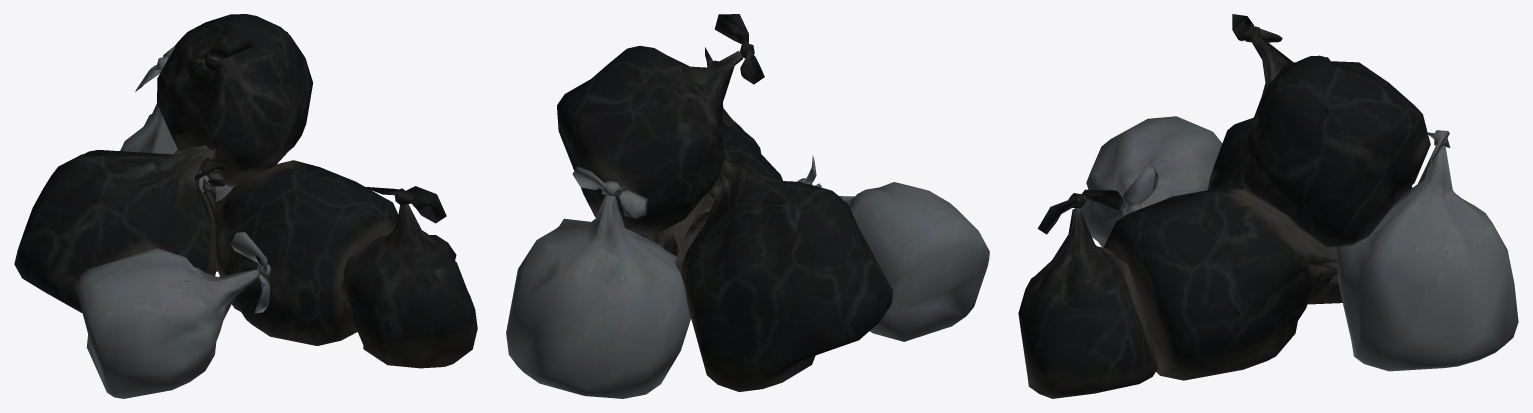
File: trash-bag-pile.glb
3 views of the same model, side by side, from view 1: azimuth 30°, elevation 25°; view 2: azimuth 150°, elevation 25°; view 3: azimuth 270°, elevation 25° (orthographic). The views are drawn at different scales.
Parts seen in each view (by area): view 1: trash-bag-pile_body; view 2: trash-bag-pile_body; view 3: trash-bag-pile_body.
Boxes of the visible parts, <box> form: trash-bag-pile_body: <box>14,14,477,398</box>; trash-bag-pile_body: <box>506,14,989,398</box>; trash-bag-pile_body: <box>1018,14,1518,398</box>.
Size of the model in its own units: 1.26 by 0.9641 by 1.42.
1 material, 1 textured.
